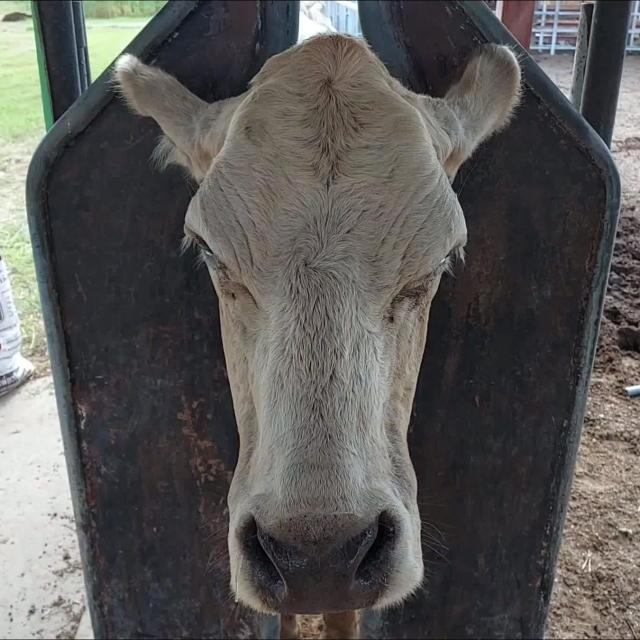cowFace: (180, 33, 463, 611)
